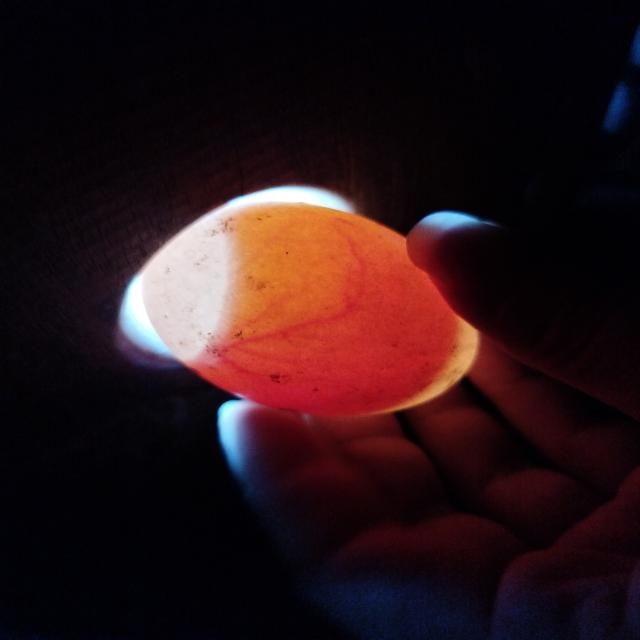Camara de Ar: (142, 219, 227, 361)
